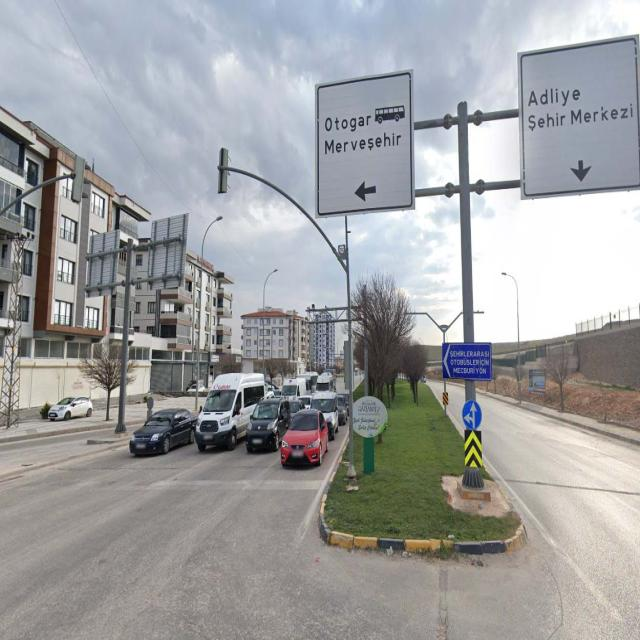ilerisol: (462, 400, 482, 430)
